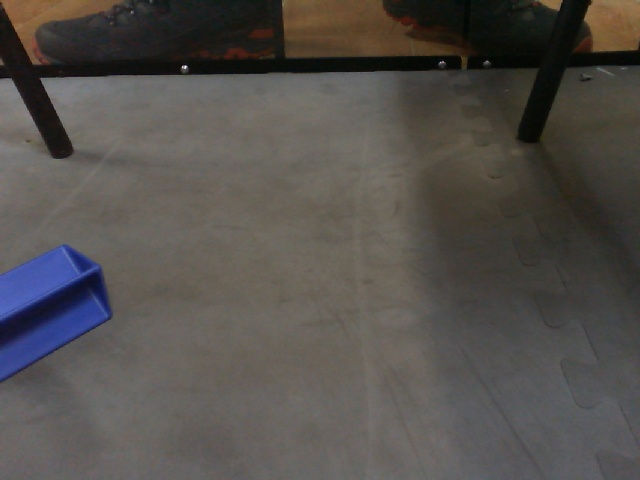BlueSample: (1, 239, 114, 390)
